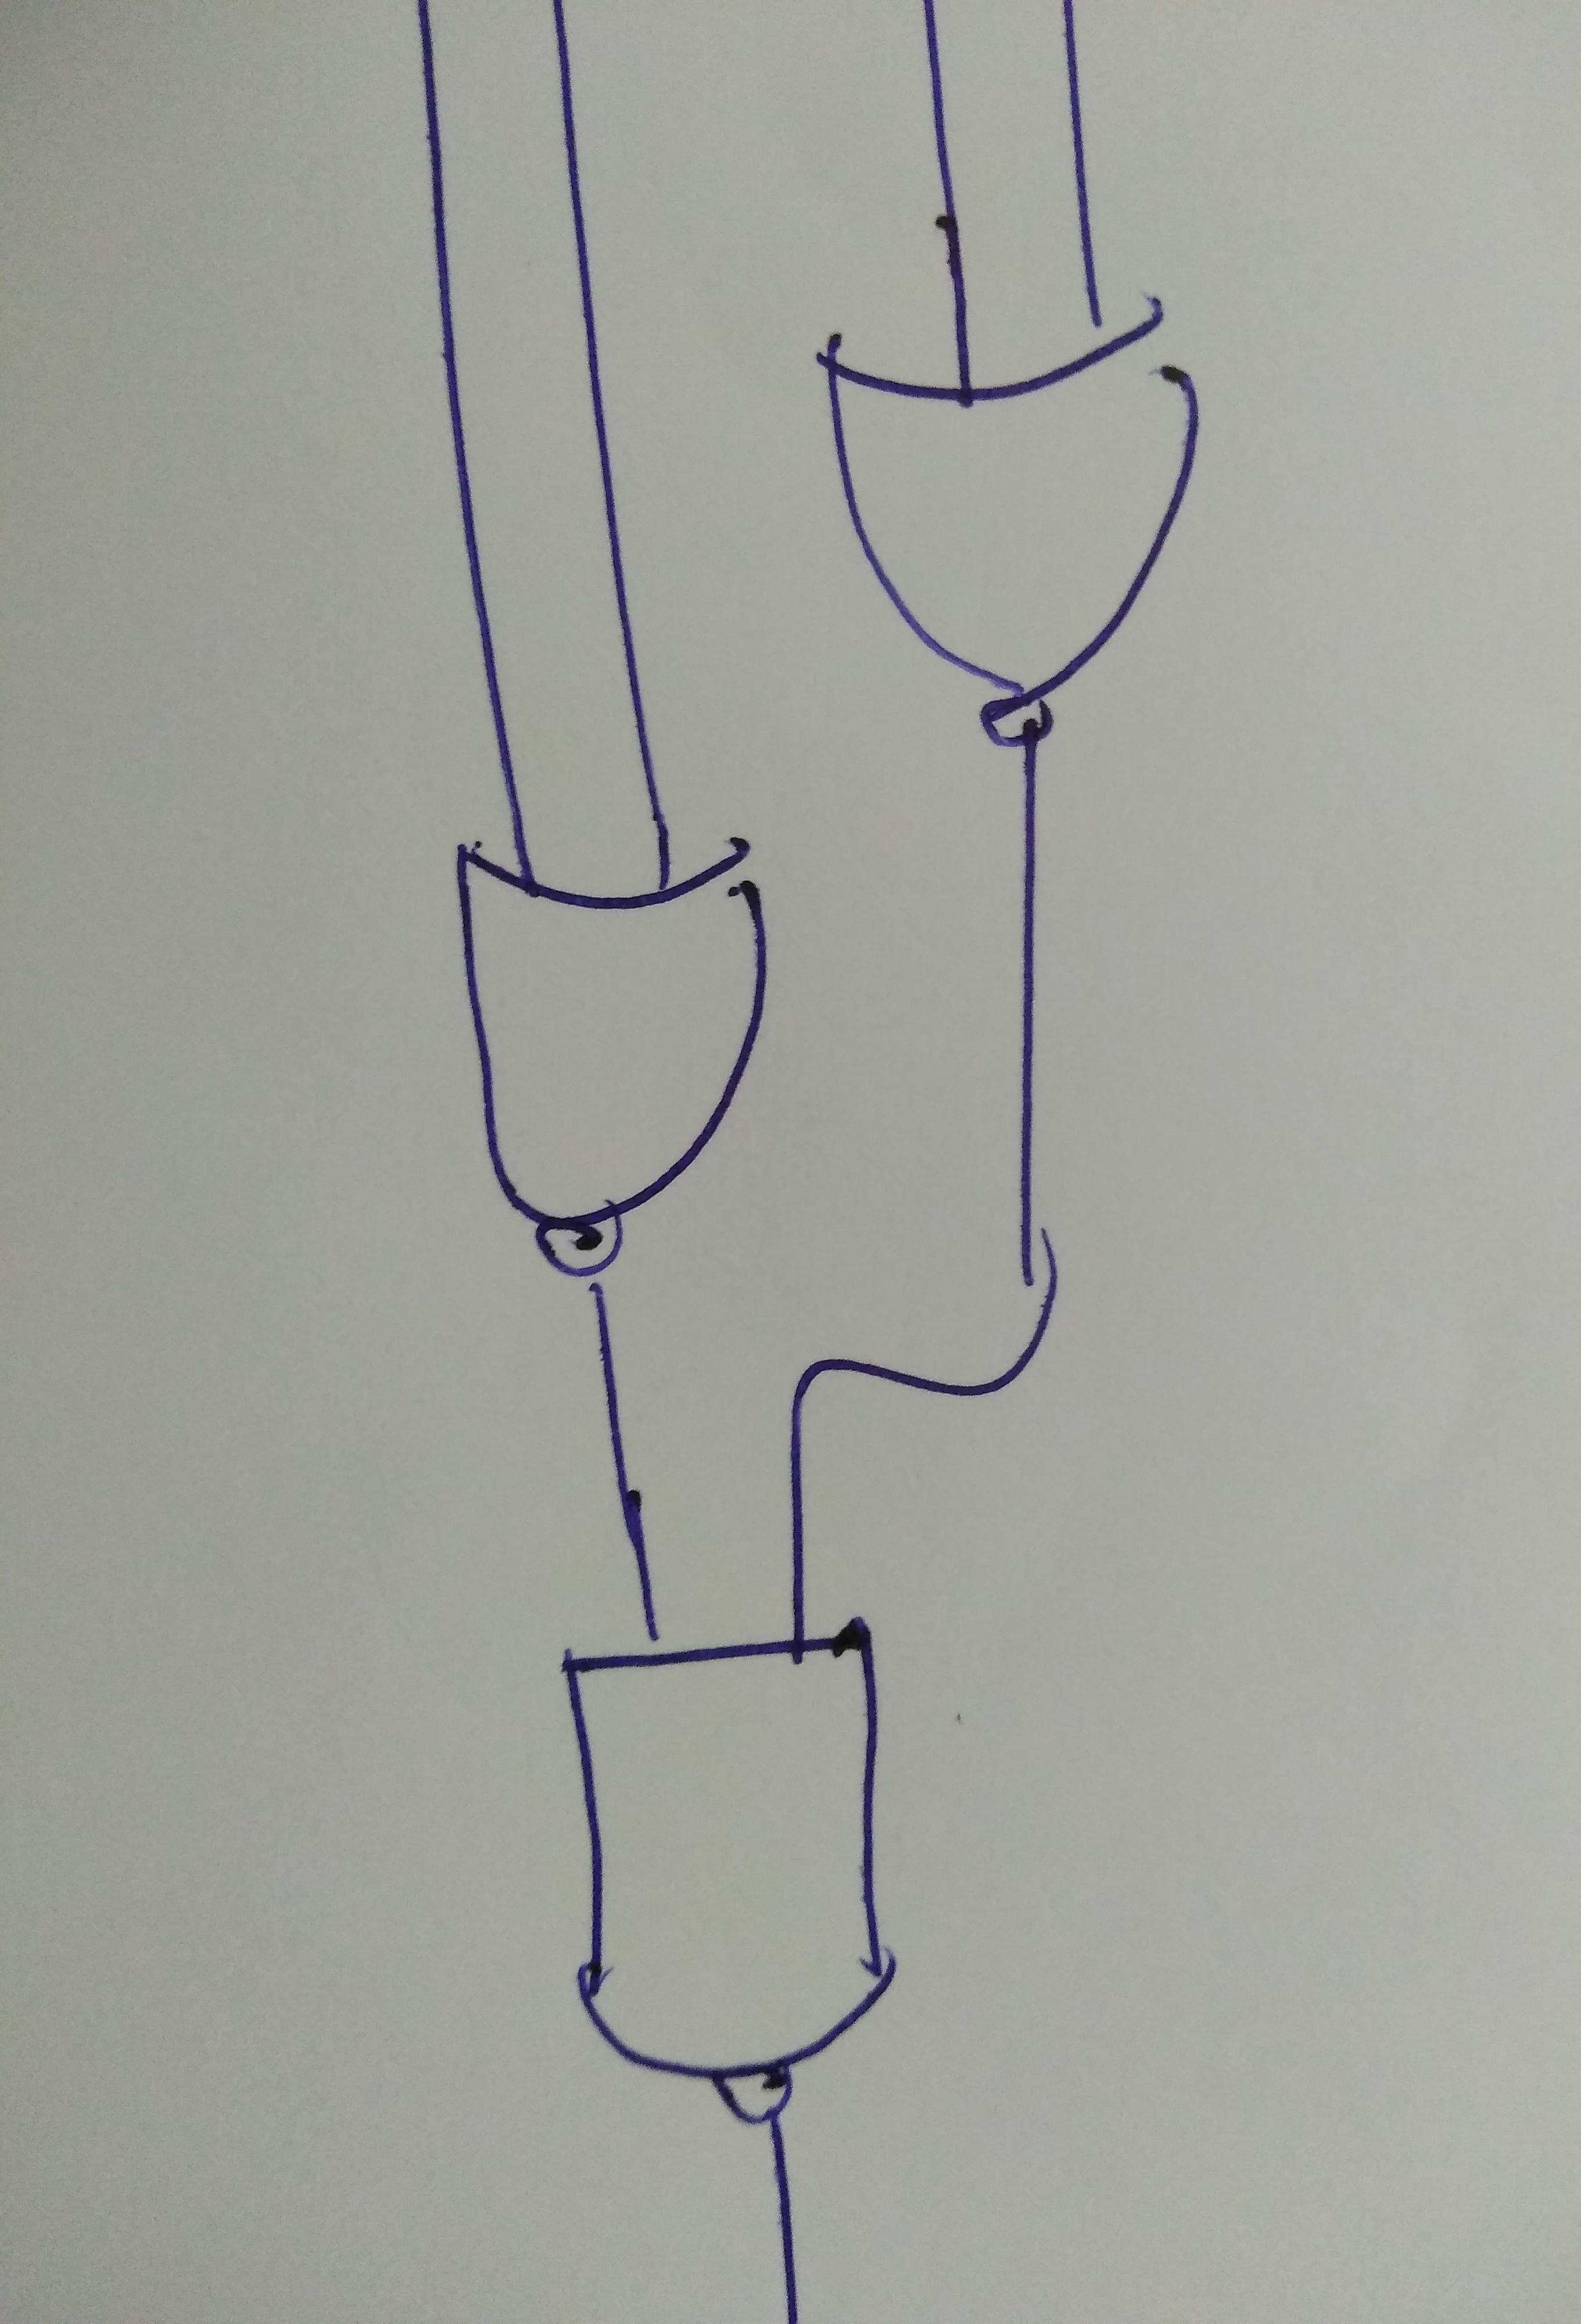nand: (503, 1585, 951, 2183)
nor: (798, 265, 1239, 836), (425, 810, 778, 1308)
